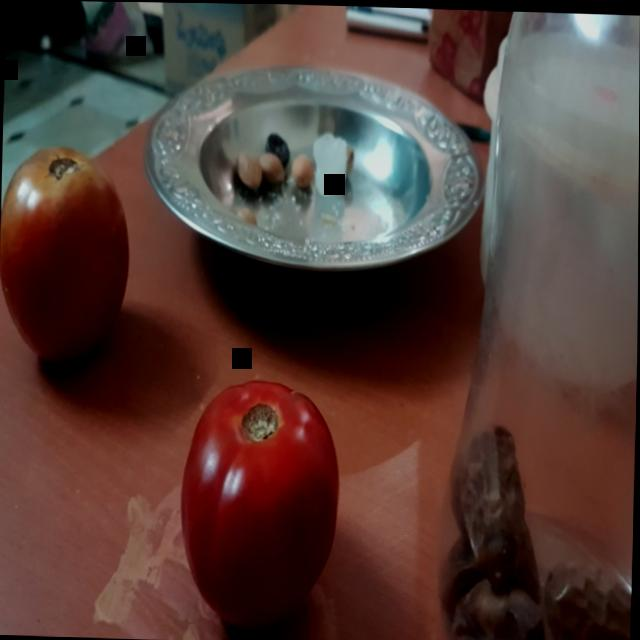tomato: (166, 374, 346, 630), (0, 145, 134, 368)
